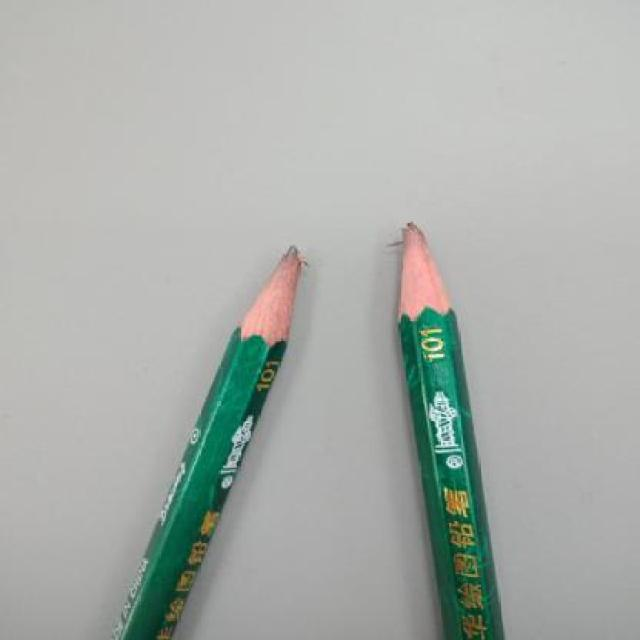pencil: (104, 239, 313, 640), (386, 210, 515, 640)
